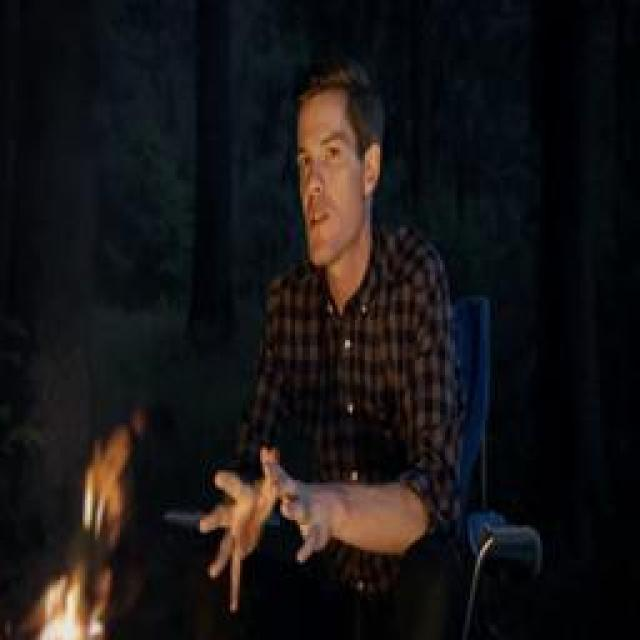Fire: (22, 427, 129, 640)
